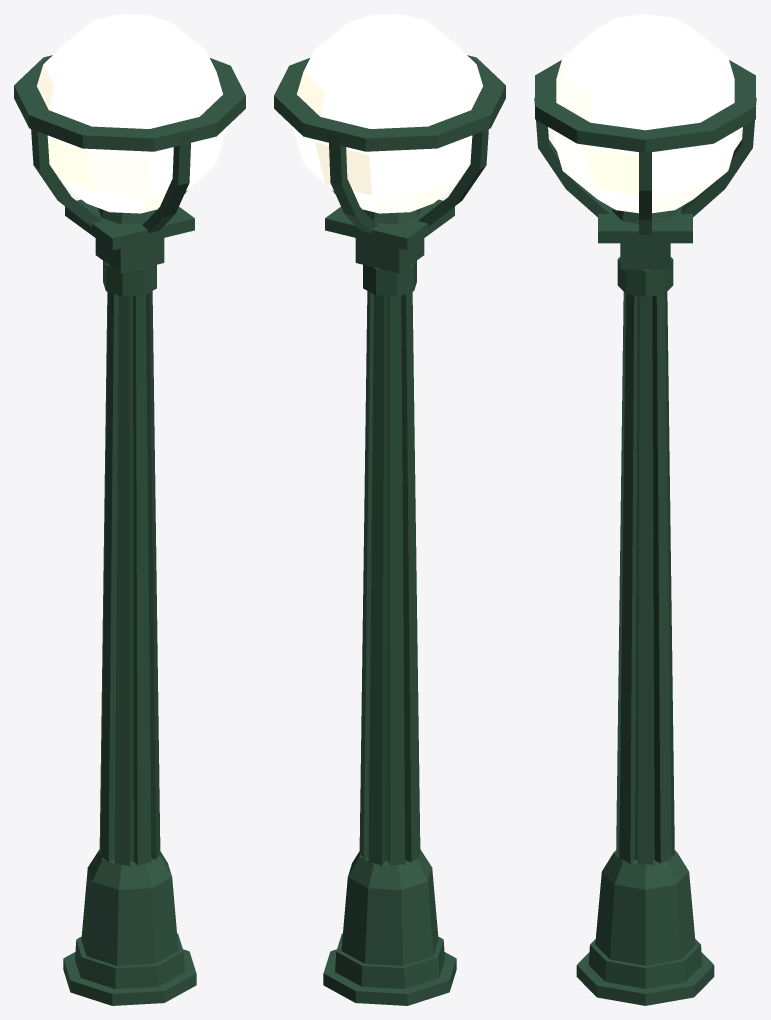
The model's file is globe-lamp-346cb6.glb.
3 views of the same model, side by side, from view 1: azimuth 30°, elevation 25°; view 2: azimuth 150°, elevation 25°; view 3: azimuth 270°, elevation 25° (orthographic).
Parts seen in each view (by area): view 1: ironwork, globe; view 2: ironwork, globe; view 3: ironwork, globe.
Boxes of the visible parts, bbox=[...] form: ironwork: bbox=[14, 55, 245, 1005]; globe: bbox=[37, 14, 227, 213]; ironwork: bbox=[274, 55, 505, 1005]; globe: bbox=[292, 14, 482, 213]; ironwork: bbox=[534, 60, 756, 1005]; globe: bbox=[550, 14, 740, 213].
Bounding box in the file's own units: 0.88 × 3.98 × 0.8409.
